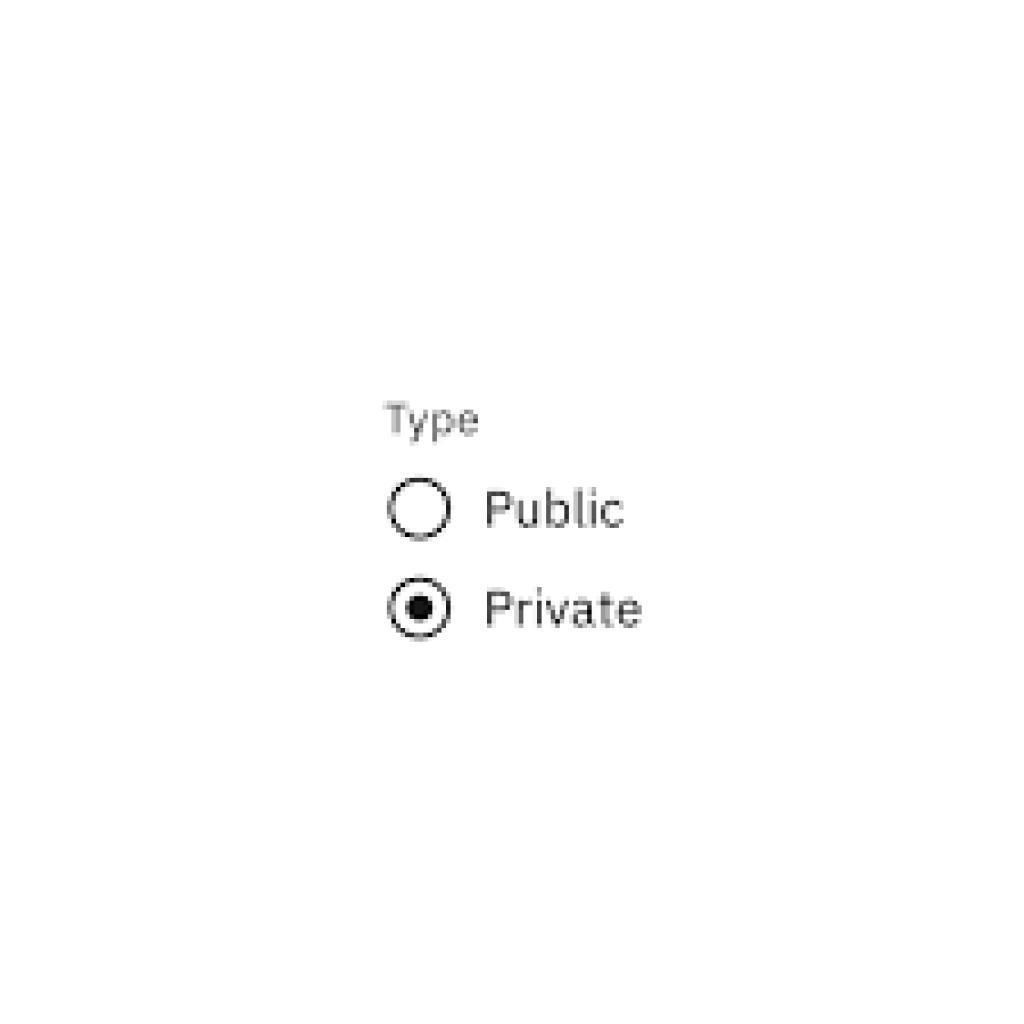radio: (376, 568, 464, 650), (380, 469, 467, 549)
